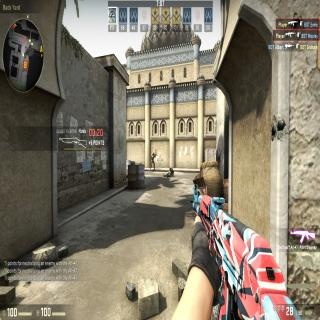CT-Body: (150, 152, 155, 170)
CT-Head: (152, 151, 154, 154)
